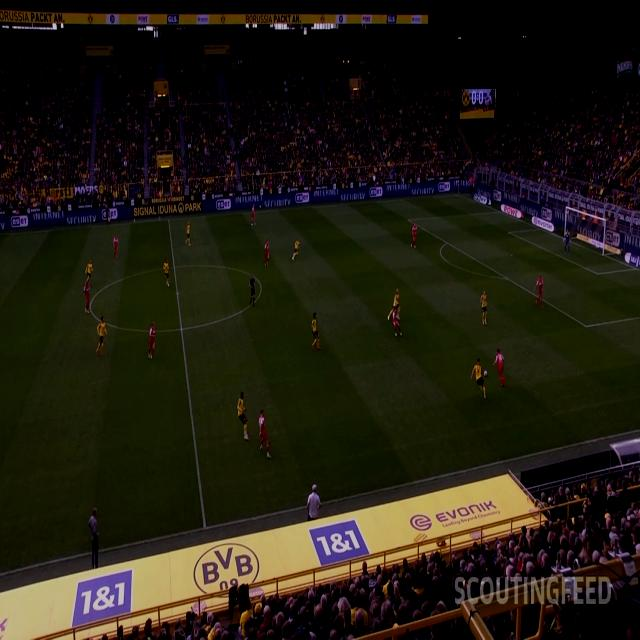f_player: (88, 508, 102, 570), (255, 410, 271, 460), (236, 391, 250, 443), (389, 290, 404, 338), (471, 357, 487, 401), (306, 486, 322, 522), (492, 350, 506, 390), (95, 316, 108, 356), (310, 314, 322, 352), (536, 276, 548, 310), (480, 288, 490, 326), (146, 322, 156, 360), (162, 260, 172, 288), (409, 223, 418, 251), (562, 230, 572, 255), (292, 239, 302, 260), (264, 240, 272, 266), (248, 202, 256, 226), (186, 224, 193, 246)
